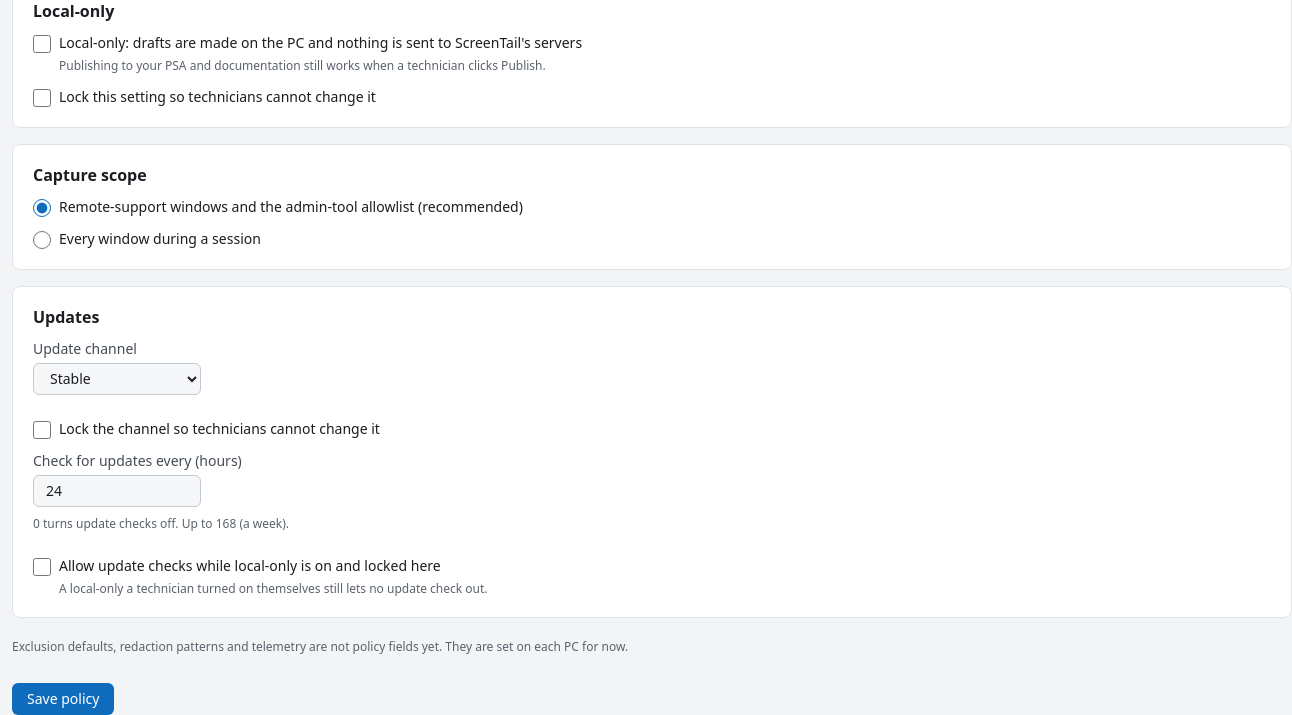
Test: PolicyPage › shows the backend's refusal in its words
This screenshot has width=1292, height=715.
(page scrolled)
Click the button "Save policy".
click(63, 699)  # box [12, 683, 114, 714]
(page scrolled)
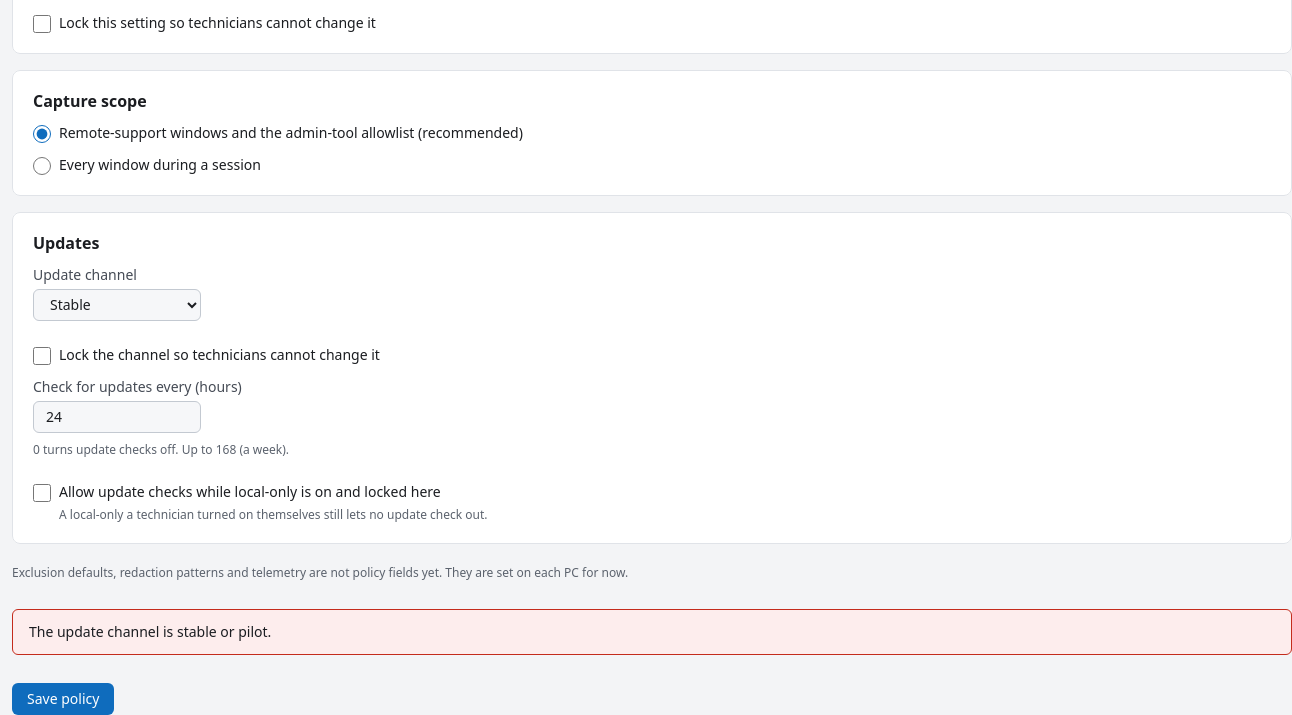
Result: the message reads "The update channel is stable or pilot." at [29, 622, 271, 641]
